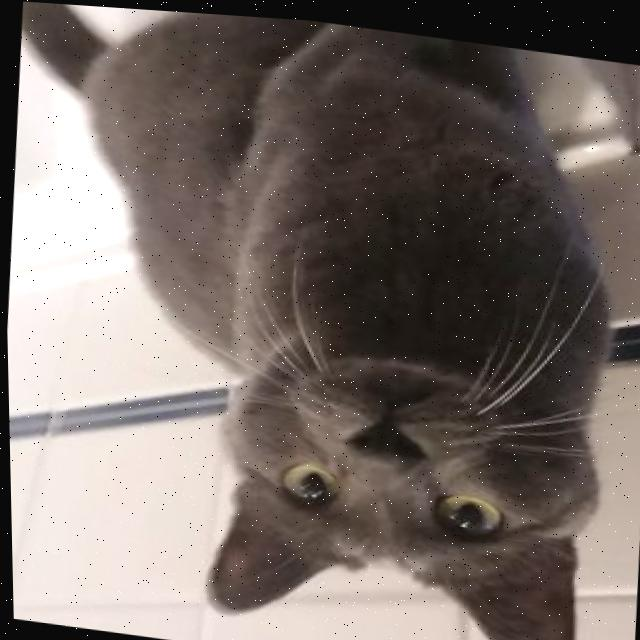Russian Blue: (0, 0, 635, 640)
